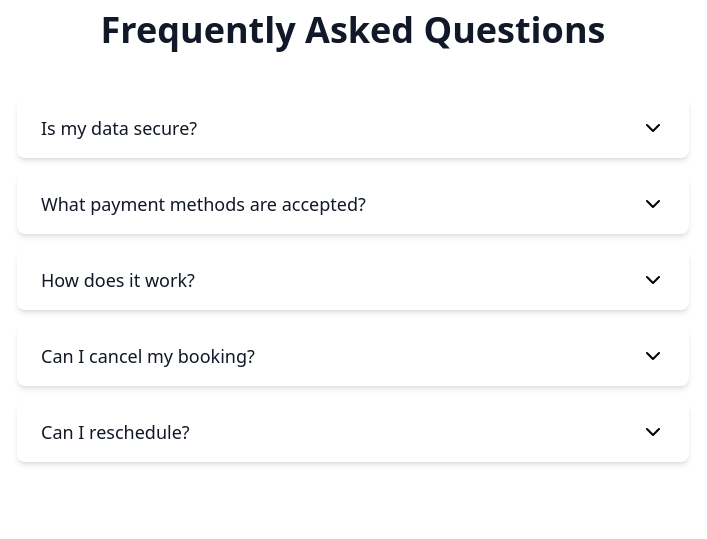
it: FAQ › allows only one item to be expanded at a time
Note: Click first FAQ
Click the button "Is my data secure?". click: x=119, y=128
box: [17, 98, 689, 158]
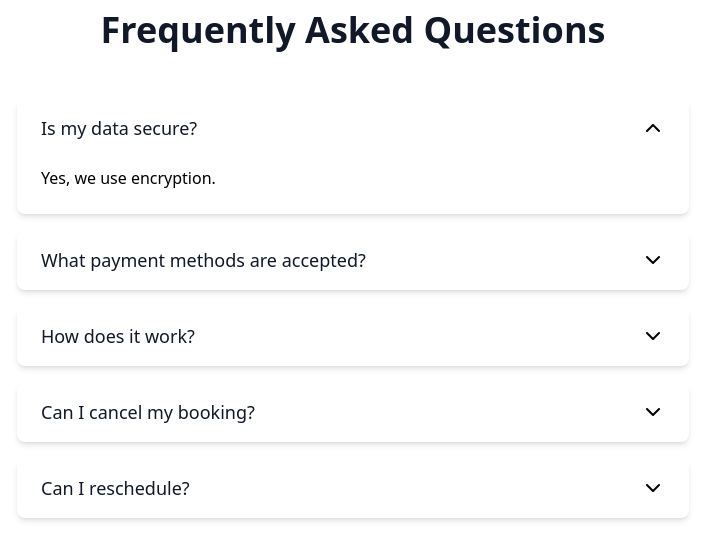
Expected: the text "Yes, we use encryption." is shown, [41, 167, 216, 189]
Note: Click second FAQ - first should close
Click the button "What payment methods are accepted?". click: x=353, y=260
box: [17, 230, 689, 290]
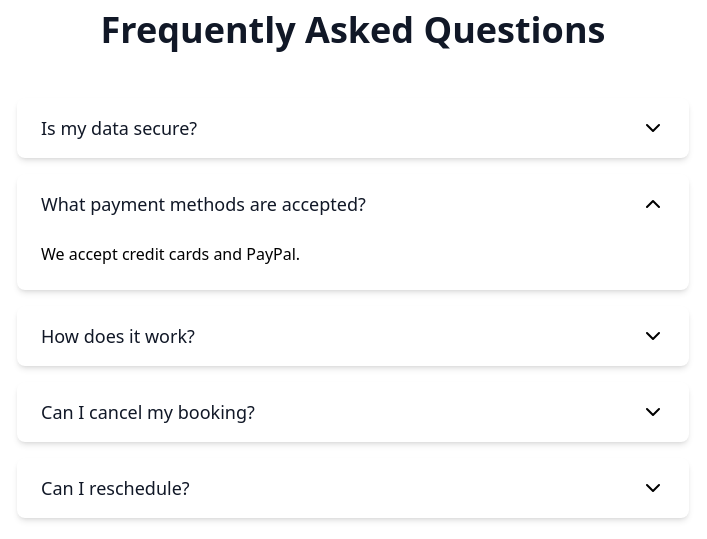
Expected: the text "Yes, we use encryption." is gone
Expected: the text "We accept credit cards and PayPal." is shown, [41, 243, 300, 265]
